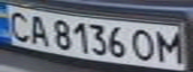1: (69, 20, 90, 54)
3: (87, 21, 109, 56)
6: (106, 25, 130, 60)
8: (48, 17, 72, 51)
A: (24, 12, 51, 46)
C: (3, 8, 33, 43)
M: (151, 28, 187, 64)
O: (127, 27, 160, 62)
